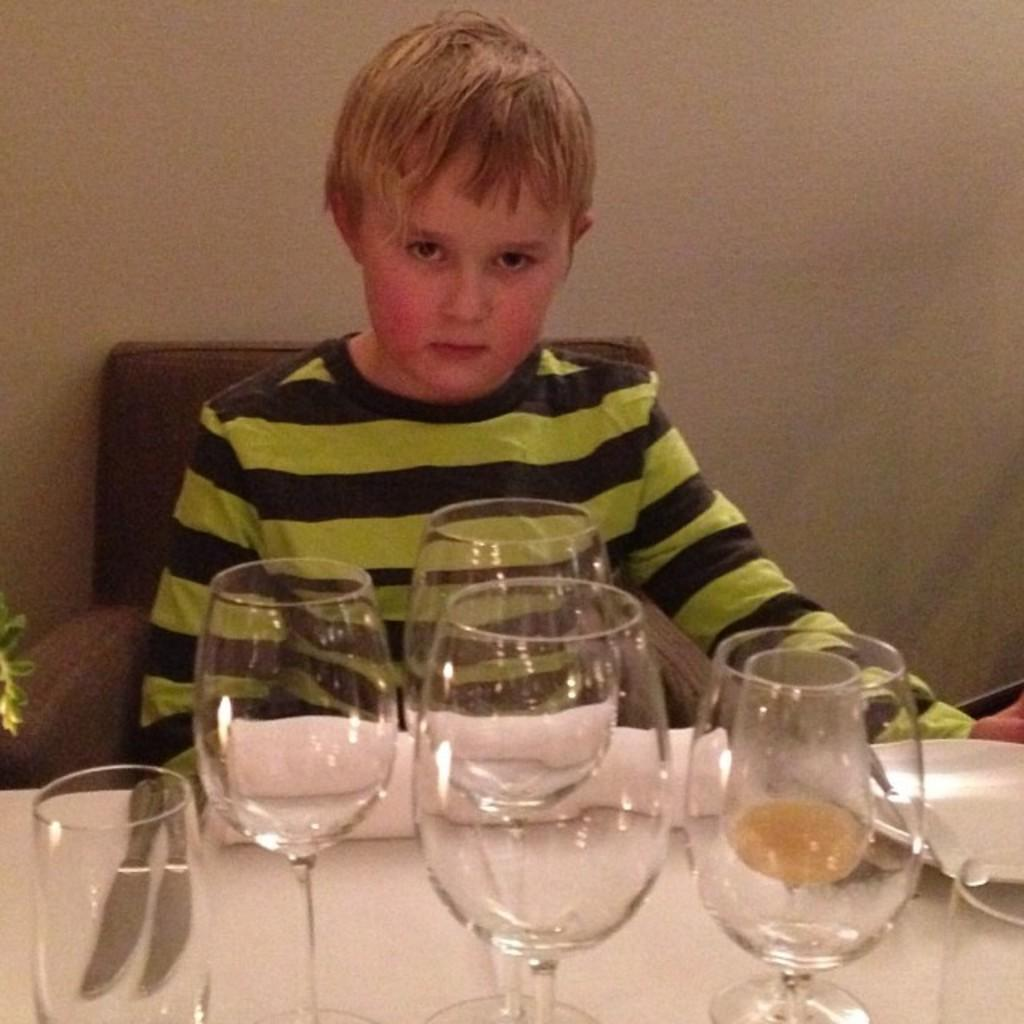Sem Máscara: (347, 146, 568, 394)
